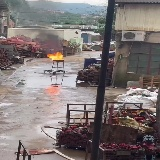fire: (47, 52, 64, 60)
